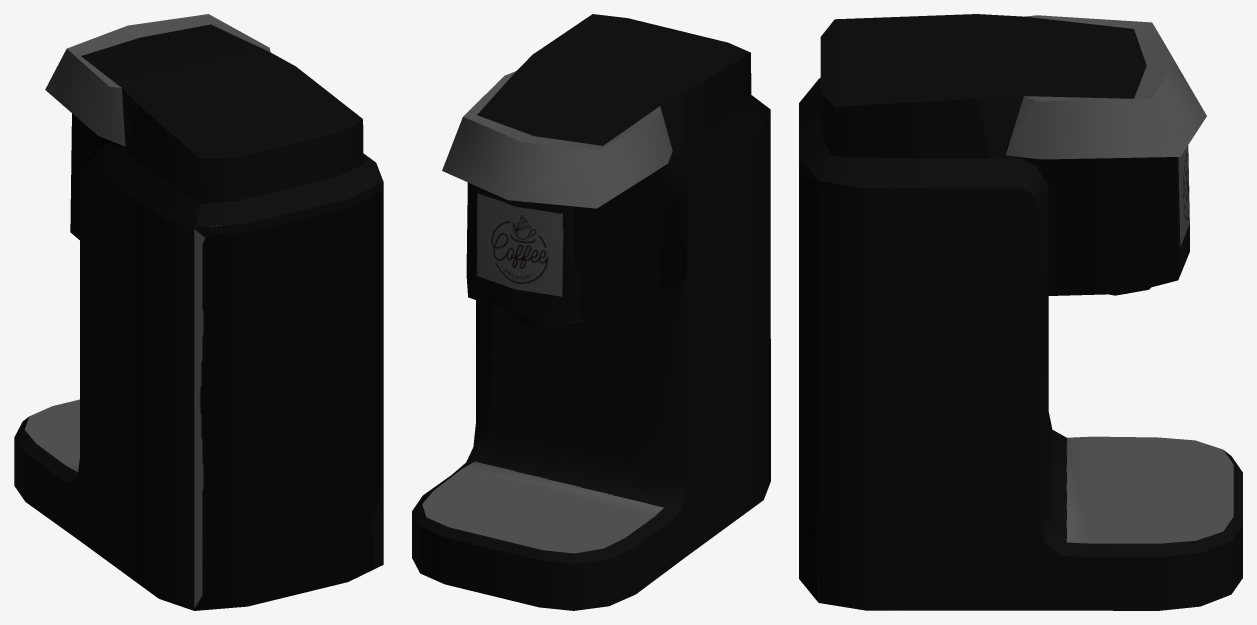
Rendered from coffee machine.glb.
3 views of the same model, side by side, from view 1: azimuth 30°, elevation 25°; view 2: azimuth 150°, elevation 25°; view 3: azimuth 270°, elevation 25° (orthographic). The views are drawn at different scales.
Parts seen in each view (by area): view 1: coffee machine; view 2: coffee machine; view 3: coffee machine.
Part boxes in pixels (x1,y1,x2,y2): coffee machine: (14, 14, 383, 610); coffee machine: (412, 14, 770, 610); coffee machine: (799, 14, 1242, 610).
Size of the model in its own units: 15.58 by 30.56 by 24.79.
1 material, 1 textured.
